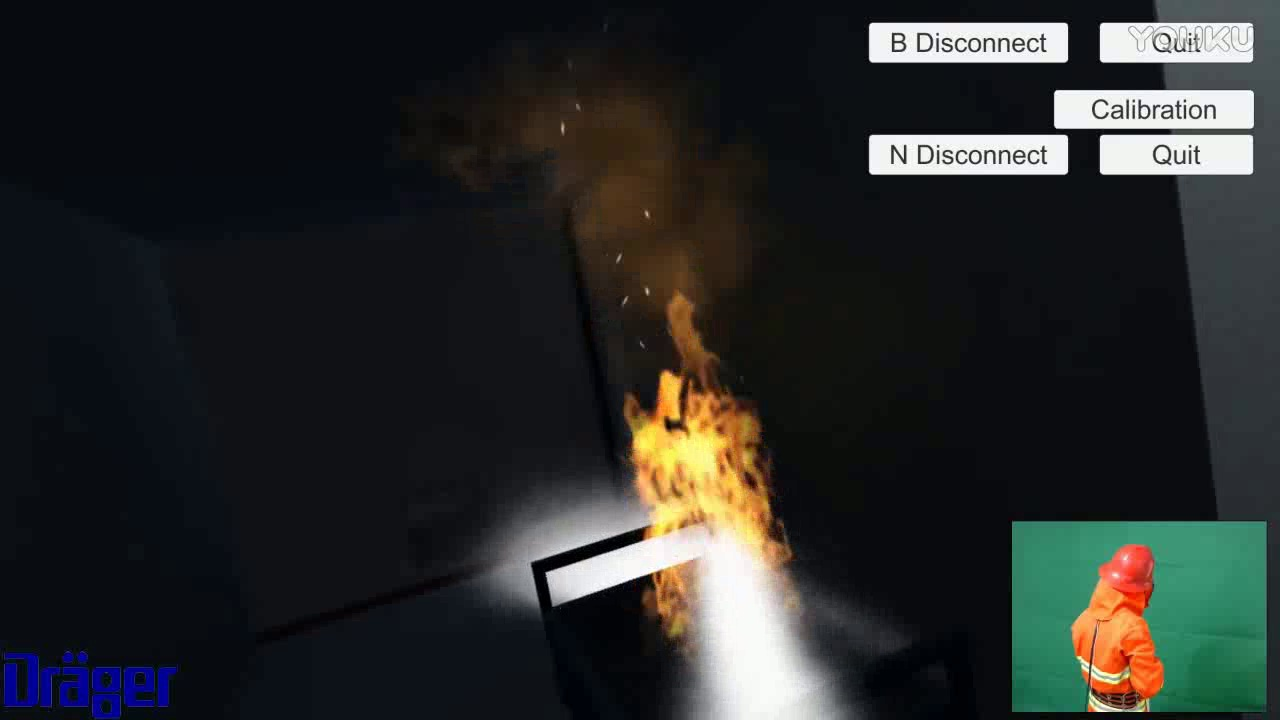fire: (606, 289, 820, 646)
